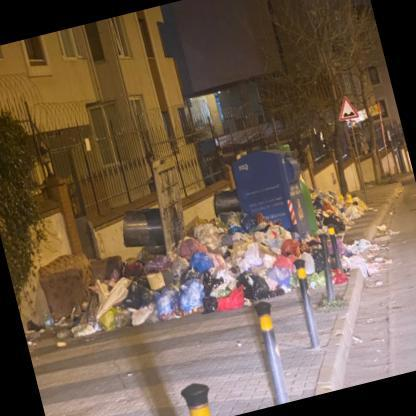Garbage: (80, 224, 222, 332), (181, 209, 262, 322), (235, 232, 296, 295), (315, 184, 370, 229), (336, 229, 378, 281)
